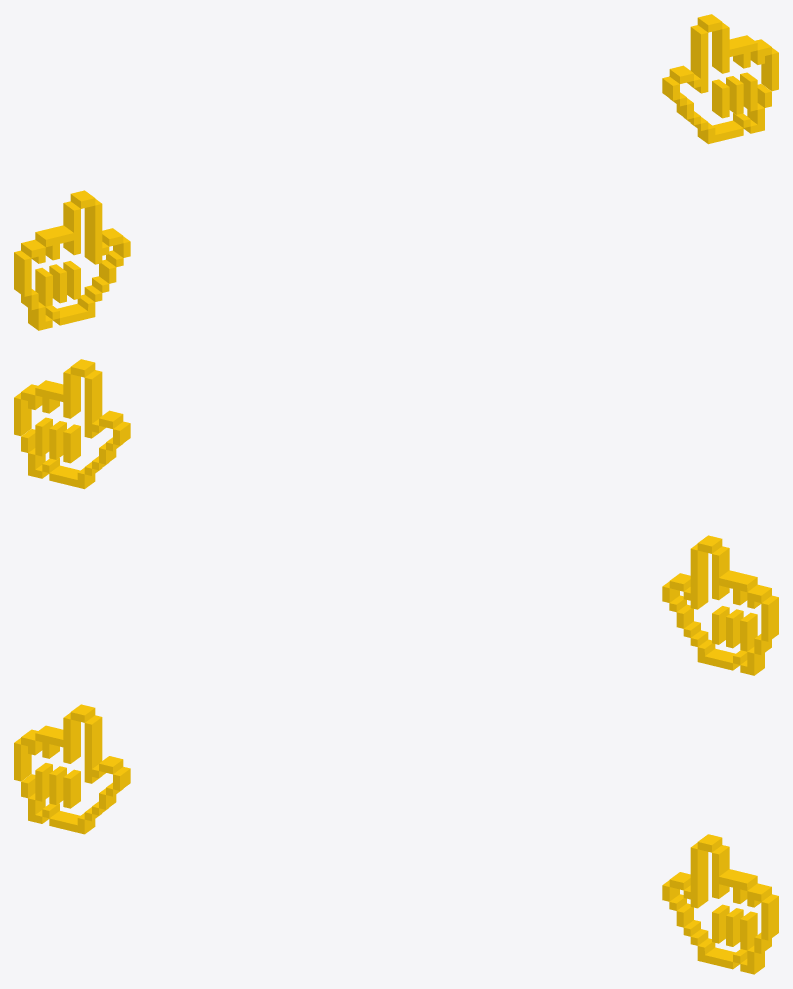
Rendered from hand_icon.glb.
3 renders of one model, top to bottom at view 1: azimuth 30°, elevation 25°; view 2: azimuth 150°, elevation 25°; view 3: azimuth 330°, elevation 25°, orthographic.
Parts seen in each view (by area): view 1: Curve.009; view 2: Curve.009; view 3: Curve.009.
Part boxes in pixels (<box>): Curve.009: <box>14,14,778,330</box>; Curve.009: <box>14,359,778,675</box>; Curve.009: <box>14,704,778,974</box>.
Bounding box in the file's own units: 57.48 × 10.36 × 1.39.
1 material, 1 textured.
